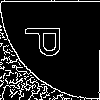P: (25, 25, 70, 58)
